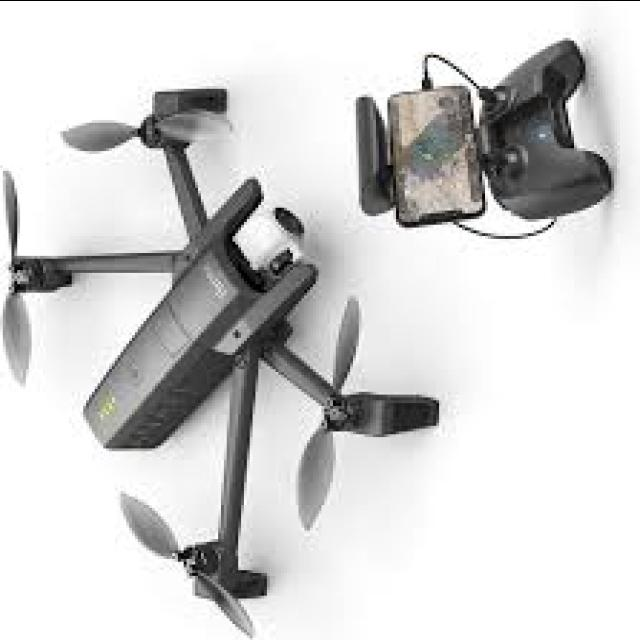drone: (0, 70, 454, 632)
